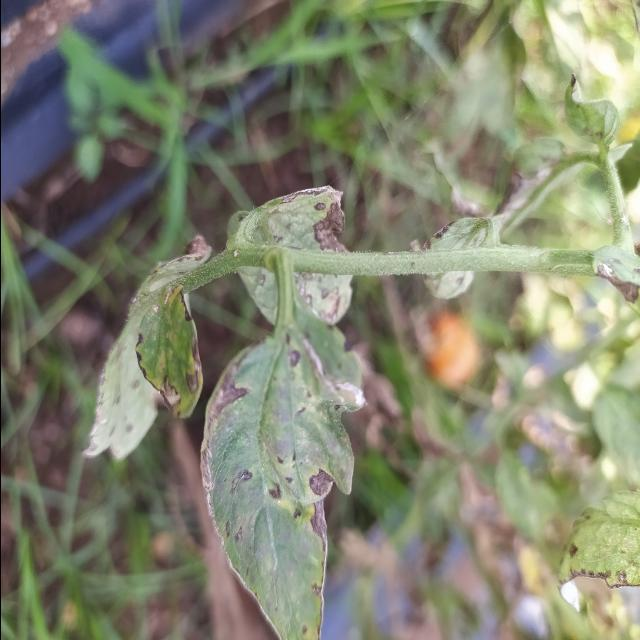Tomato mosaic virus leaf: (195, 318, 363, 640), (225, 179, 356, 323), (549, 480, 640, 602), (132, 284, 211, 424)
